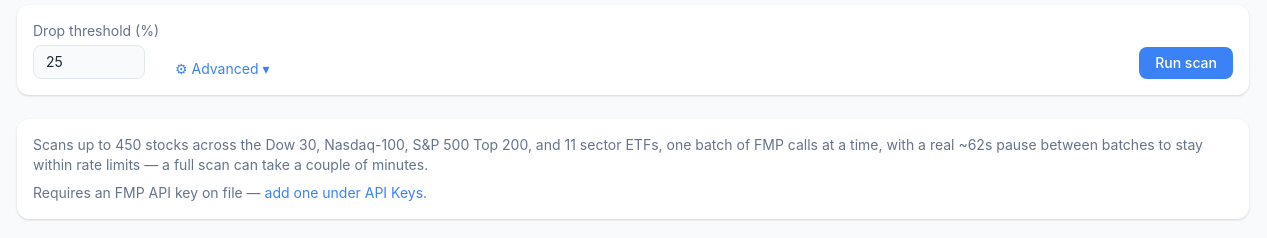
Test: ContrarianFinderPage › missing FMP key shows a 503 message with a button to add one
This screenshot has width=1267, height=238.
Click the button "Run scan" at [1186, 63], box [1139,47,1233,79]
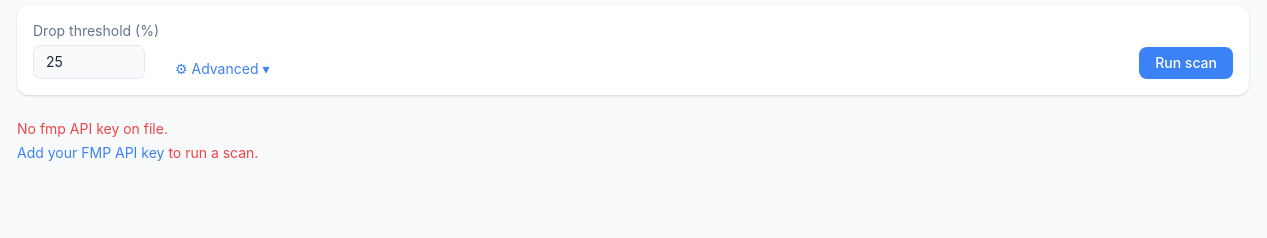
Expected: the text "No fmp API key on file." is shown, [17,120,168,137]
Expected: the button "Add your FMP API key" is shown, [17,143,164,163]
